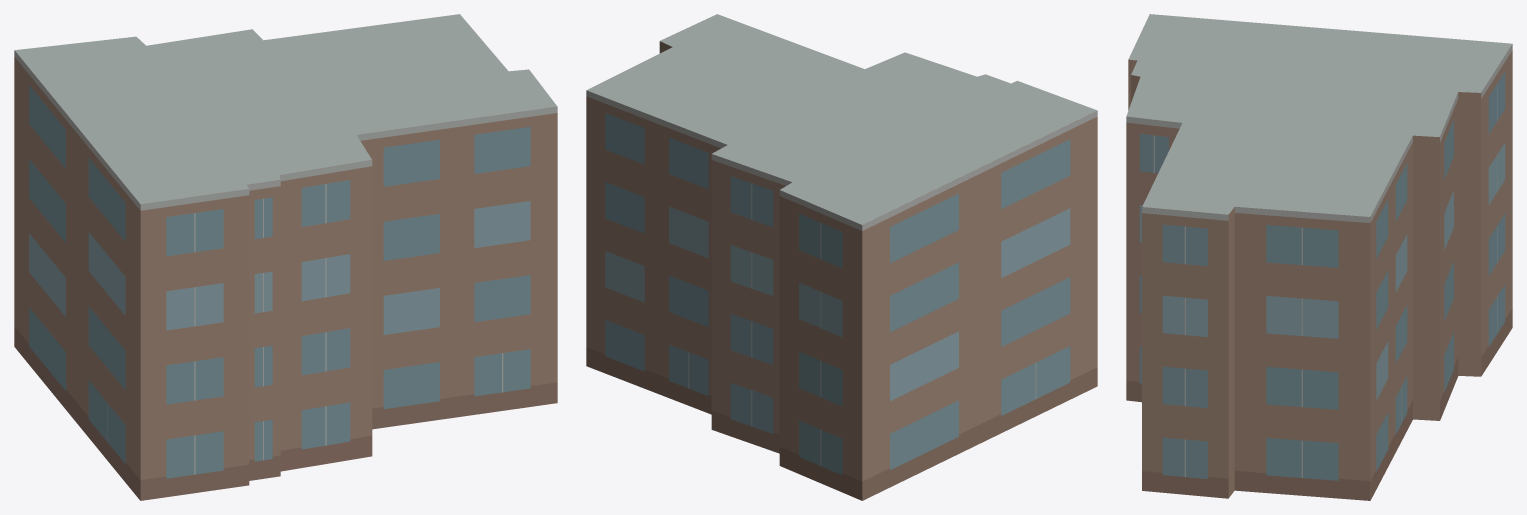
The model's file is survey-upis-32595441.glb.
The picture shows the model from 3 angles, left to right: view 1: azimuth 30°, elevation 25°; view 2: azimuth 150°, elevation 25°; view 3: azimuth 270°, elevation 25°; orthographic projection. The views are drawn at different scales.
Parts seen in each view (by area): view 1: survey-upis-32595441.tmp; view 2: survey-upis-32595441.tmp; view 3: survey-upis-32595441.tmp.
Boxes of the visible parts, box(x1,y1,x2,y2) form: survey-upis-32595441.tmp: box(14, 14, 557, 500); survey-upis-32595441.tmp: box(586, 14, 1097, 500); survey-upis-32595441.tmp: box(1126, 14, 1512, 500).
Bounding box in the file's own units: 17.34 × 11.3 × 13.95.
